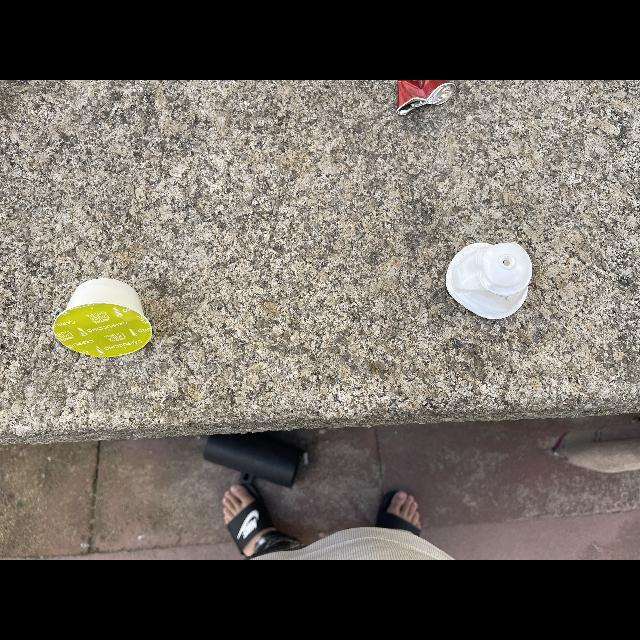damaged_capsule: (439, 222, 547, 326)
intact_capsule: (52, 266, 162, 370)
